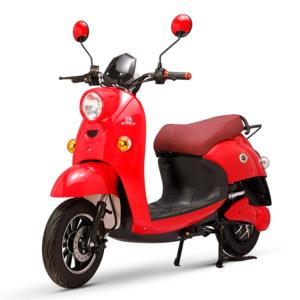motorbike: (41, 14, 273, 289)
